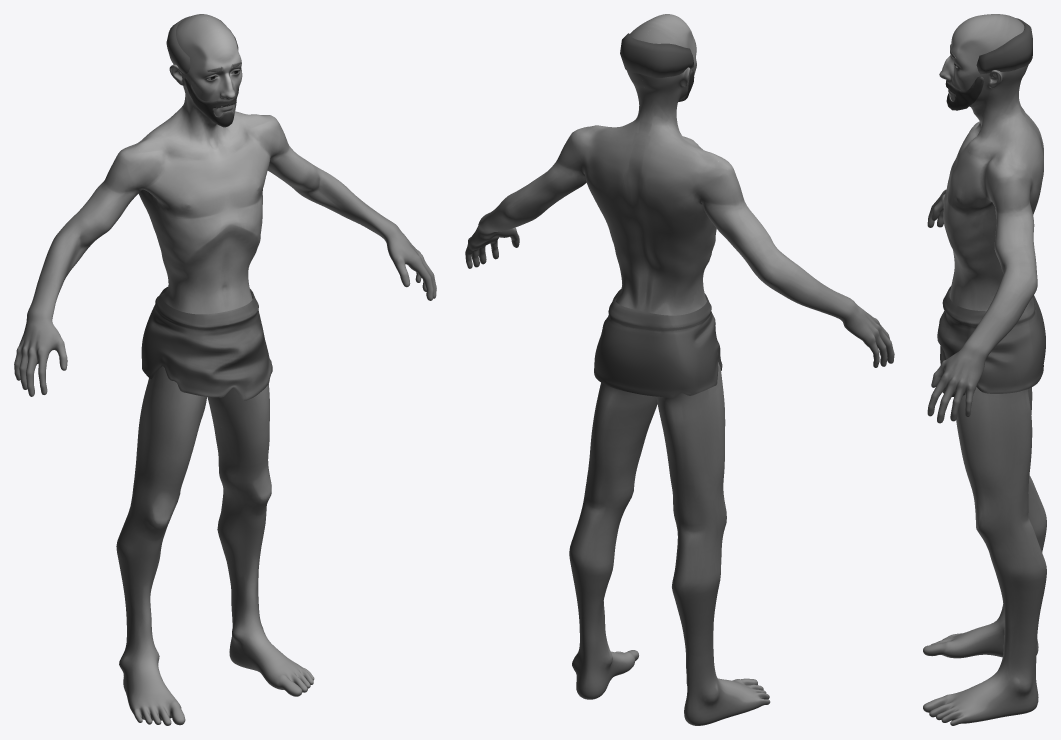
The model's file is john_victim.fbx.
3 renders of one model, left to right at view 1: azimuth 30°, elevation 25°; view 2: azimuth 150°, elevation 25°; view 3: azimuth 270°, elevation 25°, orthographic.
Parts seen in each view (by area): view 1: Body, Cloth, Beard, Hair; view 2: Body, Cloth, Hair; view 3: Body, Cloth, Hair, Beard.
Boxes of the visible parts, bbox=[...] form: Body: bbox=[14, 14, 436, 725]; Cloth: bbox=[141, 287, 272, 400]; Beard: bbox=[184, 77, 238, 127]; Hair: bbox=[166, 16, 238, 74]; Body: bbox=[465, 14, 894, 725]; Cloth: bbox=[594, 289, 722, 398]; Hair: bbox=[620, 33, 693, 77]; Body: bbox=[923, 14, 1046, 725]; Cloth: bbox=[937, 286, 1045, 396]; Hair: bbox=[976, 18, 1032, 74]; Beard: bbox=[945, 76, 984, 110].
Size of the model in its own units: 114 by 178 by 29.88.
4 materials, 4 textured.
